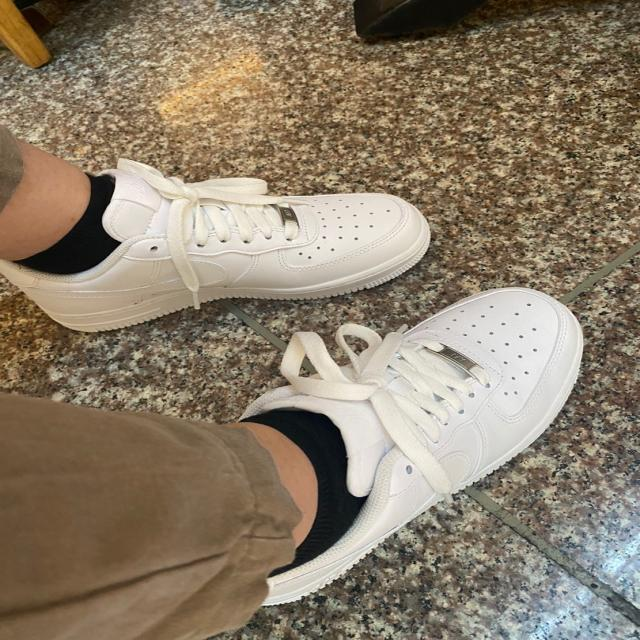nike original air force: (218, 286, 598, 608), (2, 156, 433, 336)
